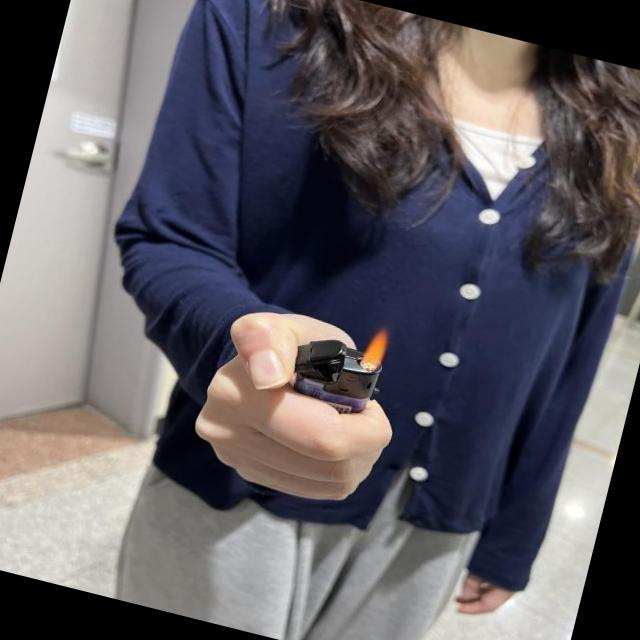Fire: (359, 316, 392, 373)
